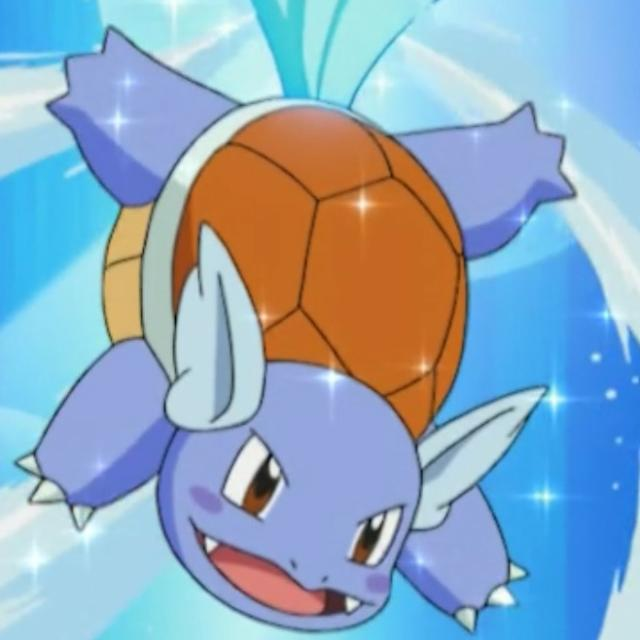Wartortle: (97, 66, 502, 634)
